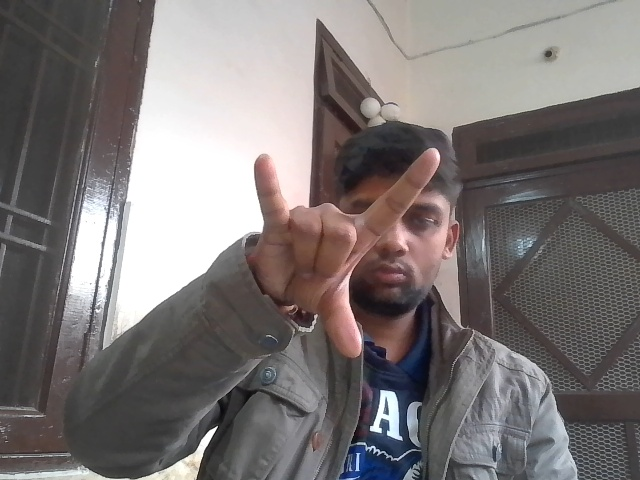ILoveYou: (238, 142, 467, 370)
